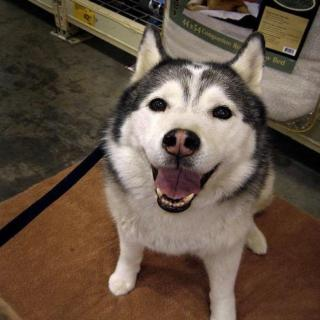dog: (116, 25, 266, 220)
nose: (160, 125, 205, 157)
